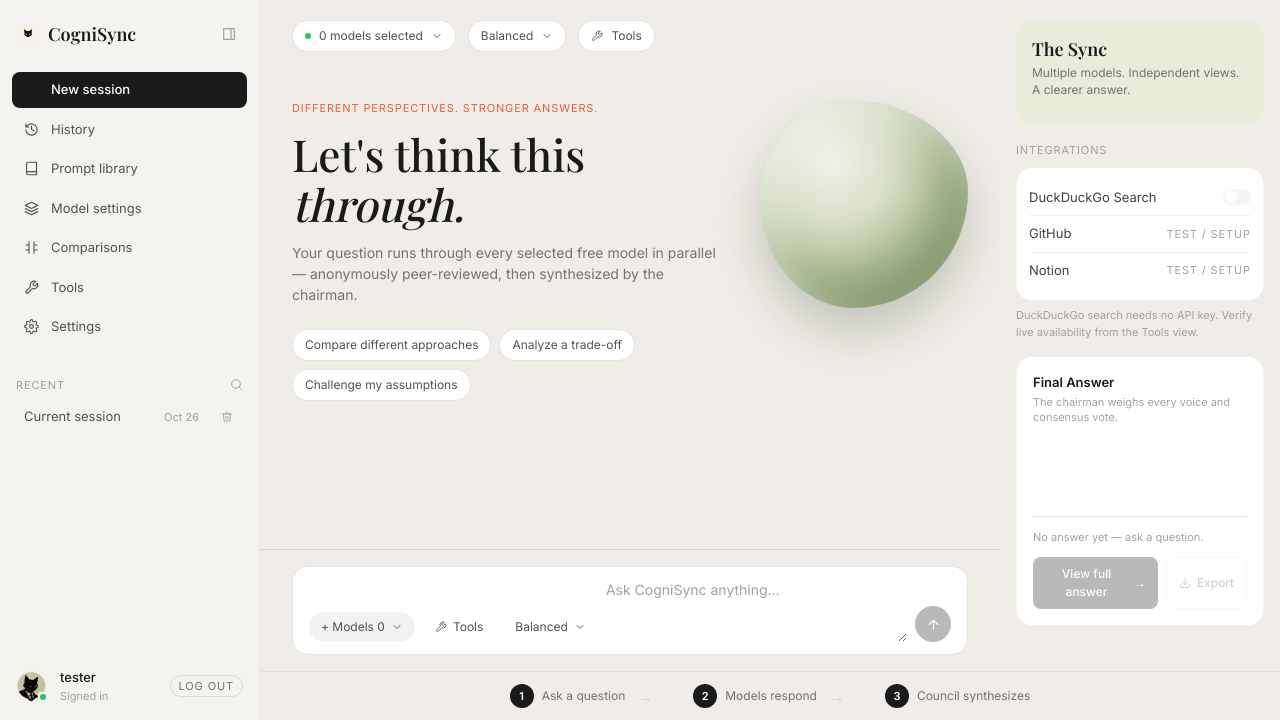
conversation deletion › keeps the conversation and reports an error when deletion fails
Click the button "History" at (130, 129), box [12,112,247,147]
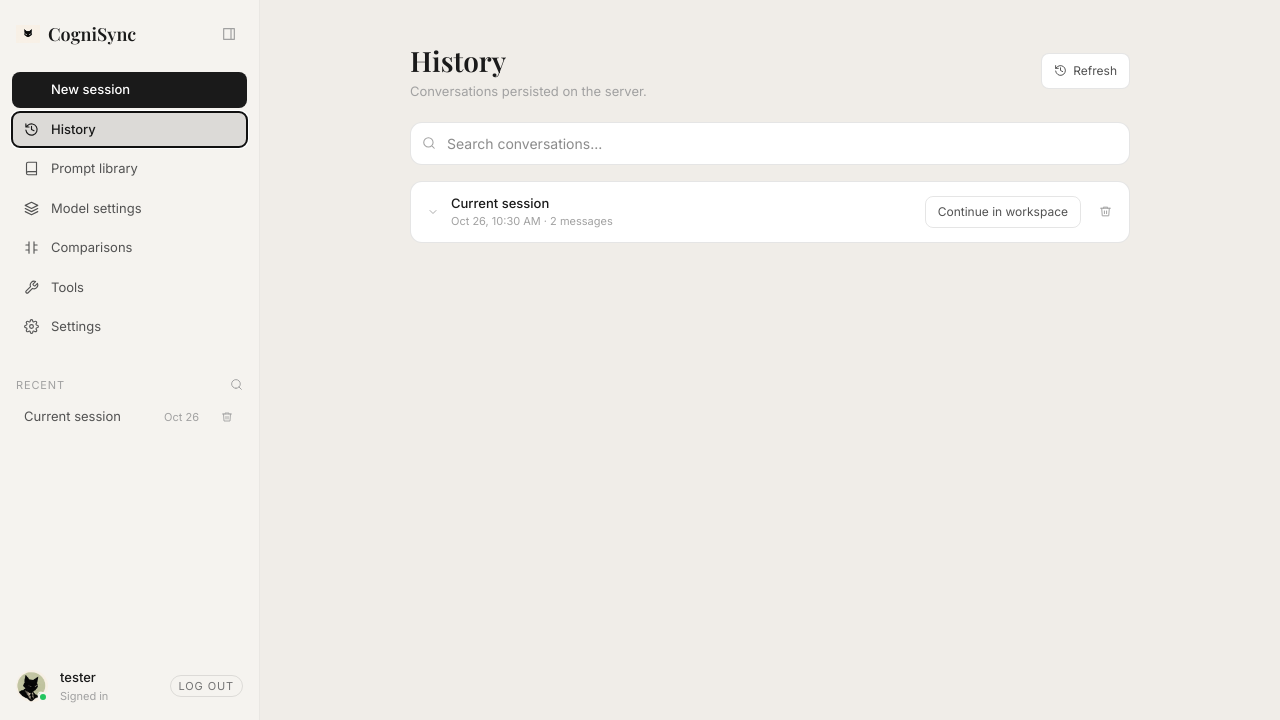
Click the 1st button named "Delete Current session" at (1105, 212), box [1089,196,1121,228]
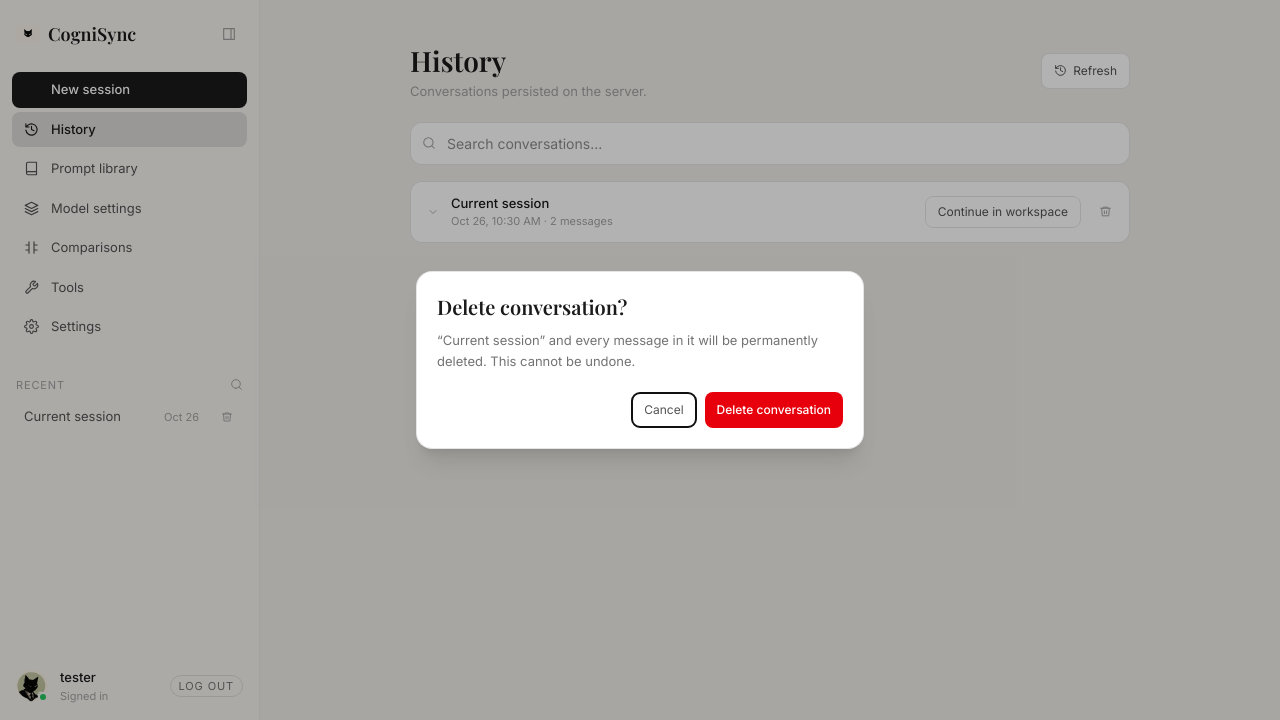
Click the button "Delete conversation" at (774, 410), box [705,392,843,428]
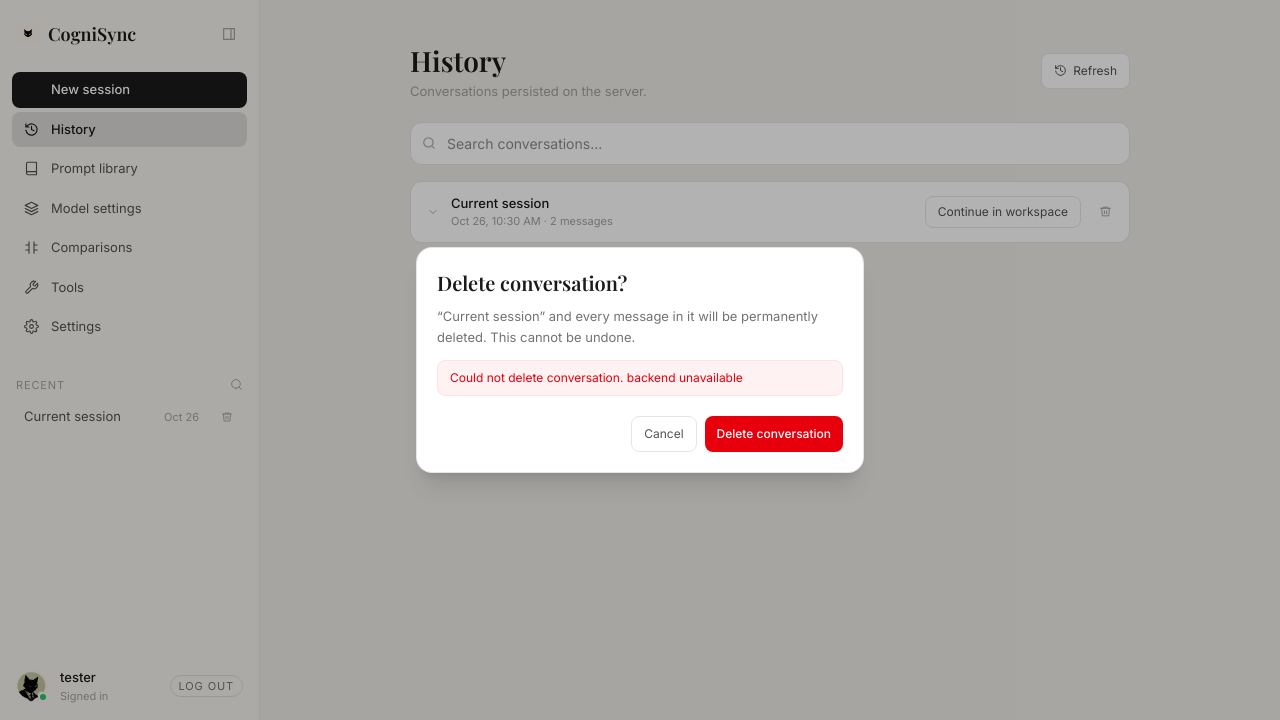
Expected: the dialog "Delete conversation?" is shown, [416,247,864,473]
Expected: the text "Current session" is shown, [451,194,549,210]
Expected: the message shows "backend unavailable", [450,370,743,385]
